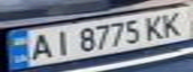5: (124, 16, 148, 45)
7: (93, 21, 112, 51), (109, 19, 127, 47)
8: (75, 25, 96, 53)
A: (24, 30, 57, 62)
I: (48, 27, 75, 57)
K: (157, 8, 193, 37), (139, 11, 169, 40)
